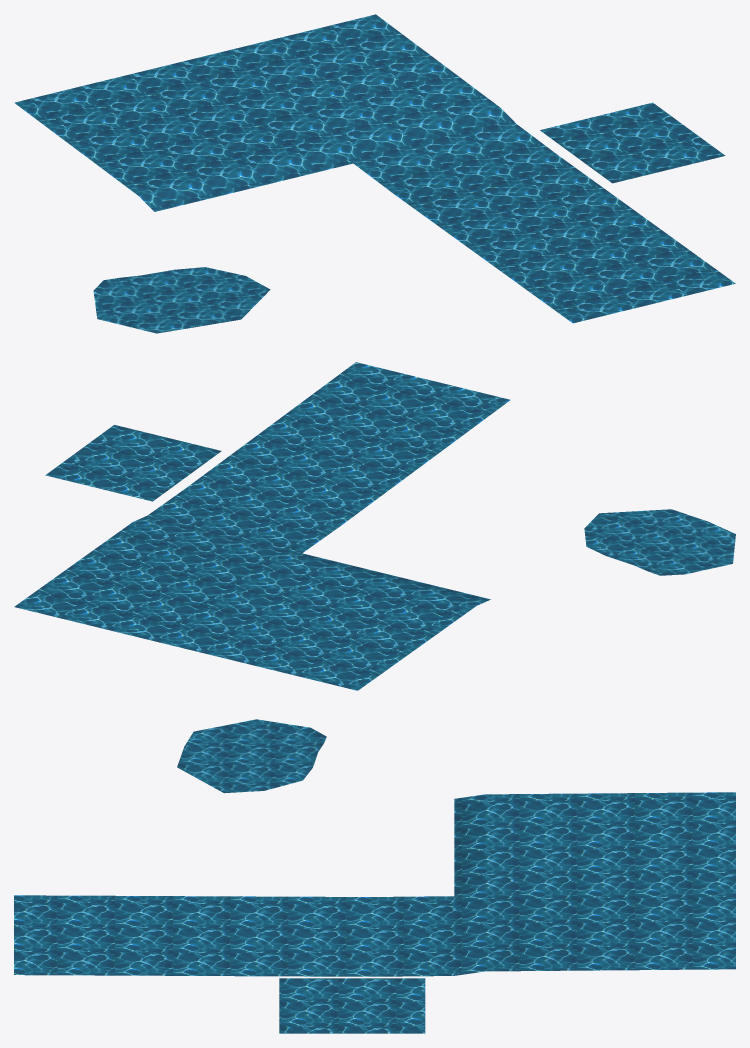
File: rc_01_grd_water.FBX
The picture shows the model from 3 angles, top to bottom: view 1: azimuth 30°, elevation 25°; view 2: azimuth 150°, elevation 25°; view 3: azimuth 270°, elevation 25°; orthographic projection. The views are drawn at different scales.
Parts seen in each view (by area): view 1: Plane010; view 2: Plane010; view 3: Plane010.
Boxes of the visible parts, bbox=[...] form: Plane010: bbox=[14, 14, 735, 333]; Plane010: bbox=[14, 362, 735, 690]; Plane010: bbox=[14, 719, 735, 1033].
Size of the model in its own units: 82085 by 80000 by 913.
